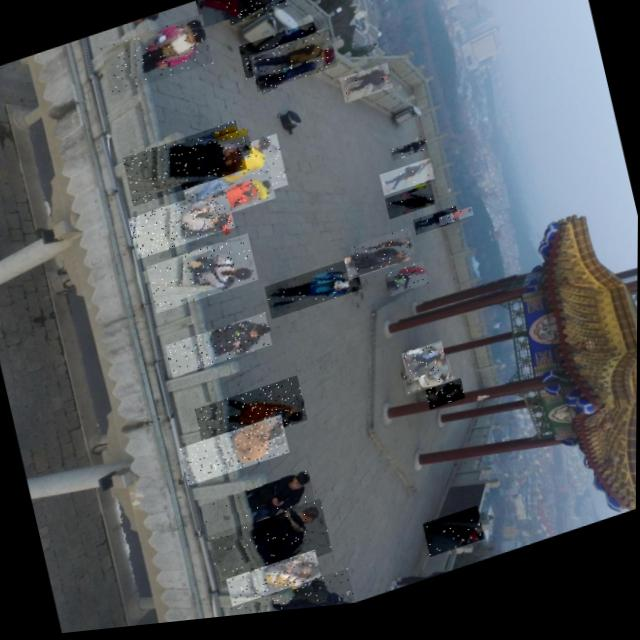Person: (207, 505, 332, 595), (121, 124, 246, 211), (176, 138, 288, 223), (99, 18, 212, 101), (145, 237, 257, 318), (194, 381, 307, 459), (198, 476, 316, 545), (127, 190, 234, 263), (179, 420, 289, 491), (164, 317, 272, 382), (263, 264, 362, 326), (226, 555, 322, 616), (228, 575, 355, 621), (248, 35, 337, 100), (237, 28, 320, 85), (190, 174, 275, 229), (422, 515, 484, 567), (194, 0, 286, 33), (350, 236, 414, 280), (343, 247, 410, 288), (192, 133, 252, 178), (338, 70, 392, 111), (378, 166, 434, 204), (399, 349, 447, 392), (400, 368, 453, 405), (223, 0, 286, 31), (382, 192, 434, 229), (385, 269, 428, 305), (424, 387, 465, 420), (412, 215, 458, 244), (389, 147, 427, 170), (437, 217, 473, 236)
